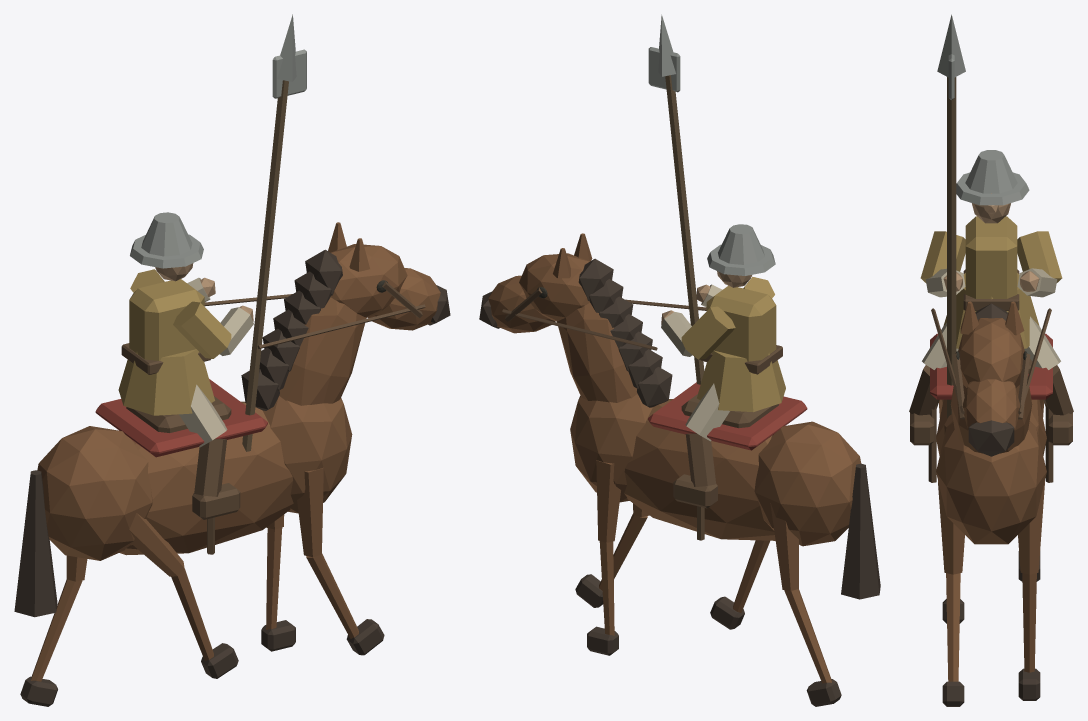
File: horse_rider_static.glb
The picture shows the model from 3 angles, left to right: view 1: azimuth 30°, elevation 25°; view 2: azimuth 150°, elevation 25°; view 3: azimuth 270°, elevation 25°; orthographic projection. The views are drawn at different scales.
Visible parts, largest first — view 1: horse_rider_static; view 2: horse_rider_static; view 3: horse_rider_static.
Part boxes in pixels (x1=…): horse_rider_static: x1=14, y1=14, x2=450, y2=706; horse_rider_static: x1=479, y1=14, x2=880, y2=706; horse_rider_static: x1=909, y1=14, x2=1073, y2=706.
Size of the model in its own units: 2.88 by 4.27 by 0.9512.
